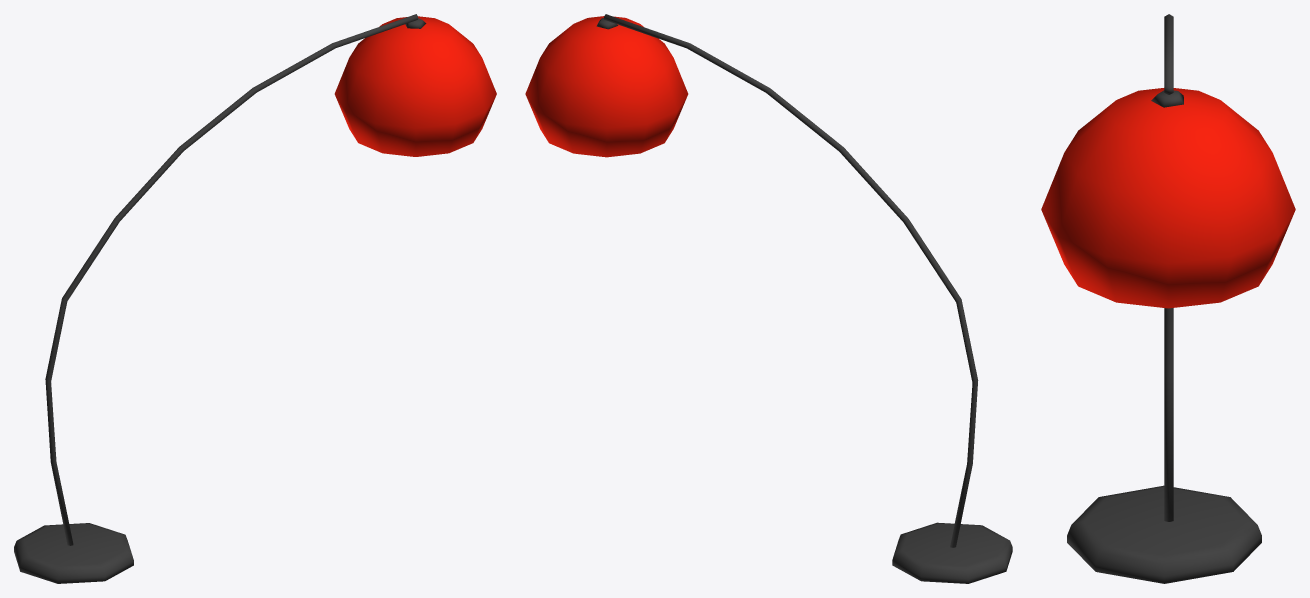
File: Arc_Lamp_A.FBX
3 renders of one model, left to right at view 1: azimuth 30°, elevation 25°; view 2: azimuth 150°, elevation 25°; view 3: azimuth 270°, elevation 25°, orthographic. The views are drawn at different scales.
Parts seen in each view (by area): view 1: Arc_Lamp; view 2: Arc_Lamp; view 3: Arc_Lamp.
Part boxes in pixels (x1,y1,x2,y2): Arc_Lamp: (14,14,496,583); Arc_Lamp: (525,14,1012,583); Arc_Lamp: (1041,14,1295,583).
Bounding box in the file's own units: 316 × 297 × 95.22.
